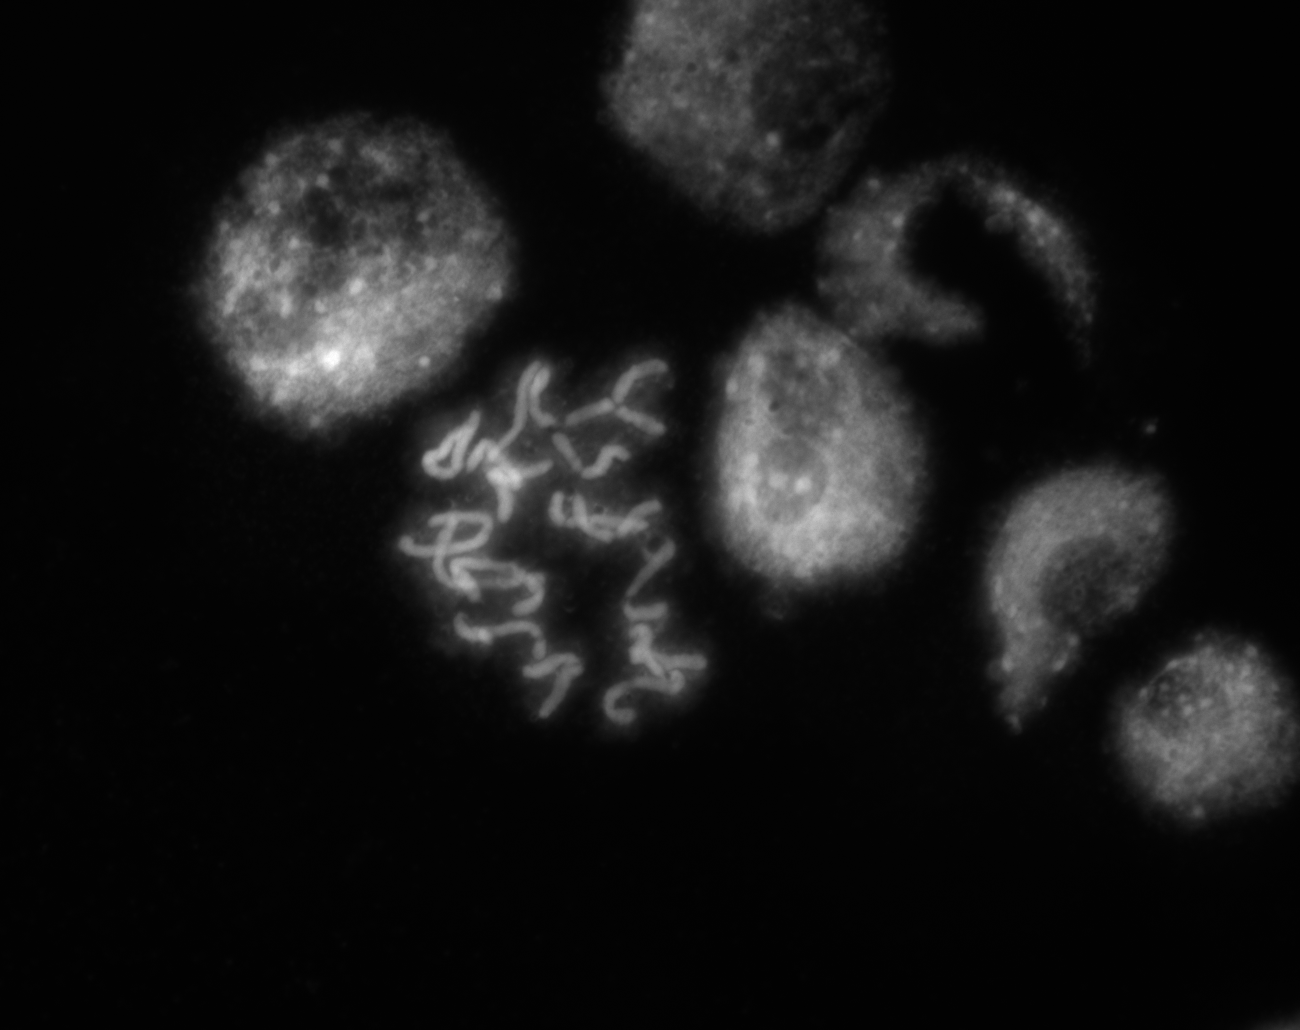Chromosomes: (371, 321, 706, 744)
Others: (158, 68, 556, 449), (767, 114, 1137, 420), (582, 6, 921, 248), (983, 439, 1187, 738), (1111, 595, 1300, 854)
